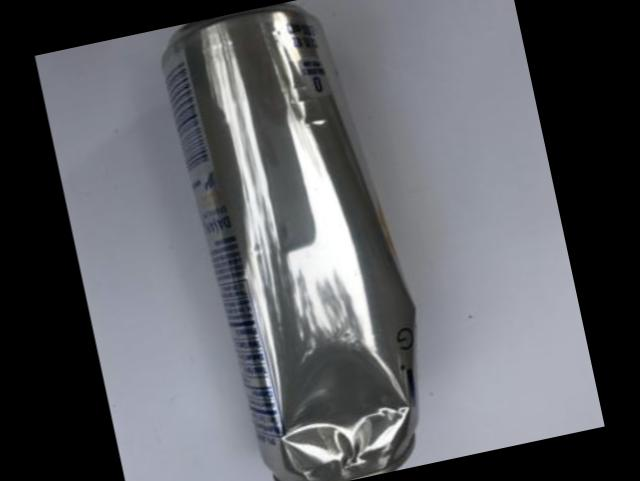metal: (161, 3, 414, 481)
